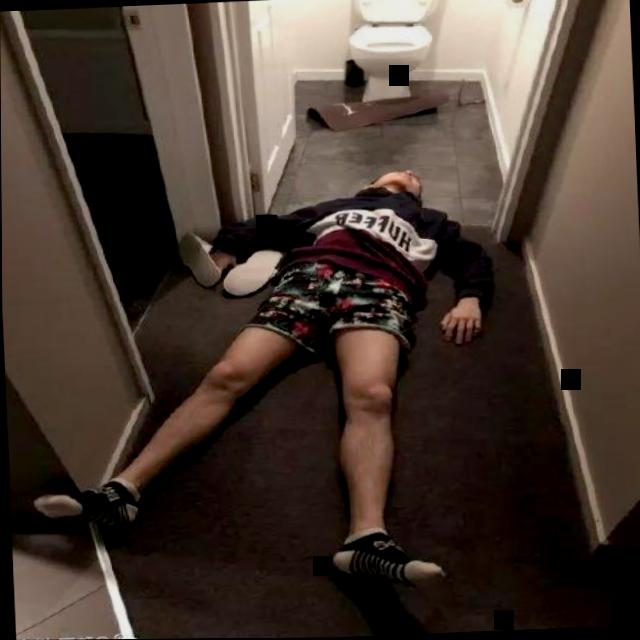Fall-Detected: (1, 162, 519, 607)
